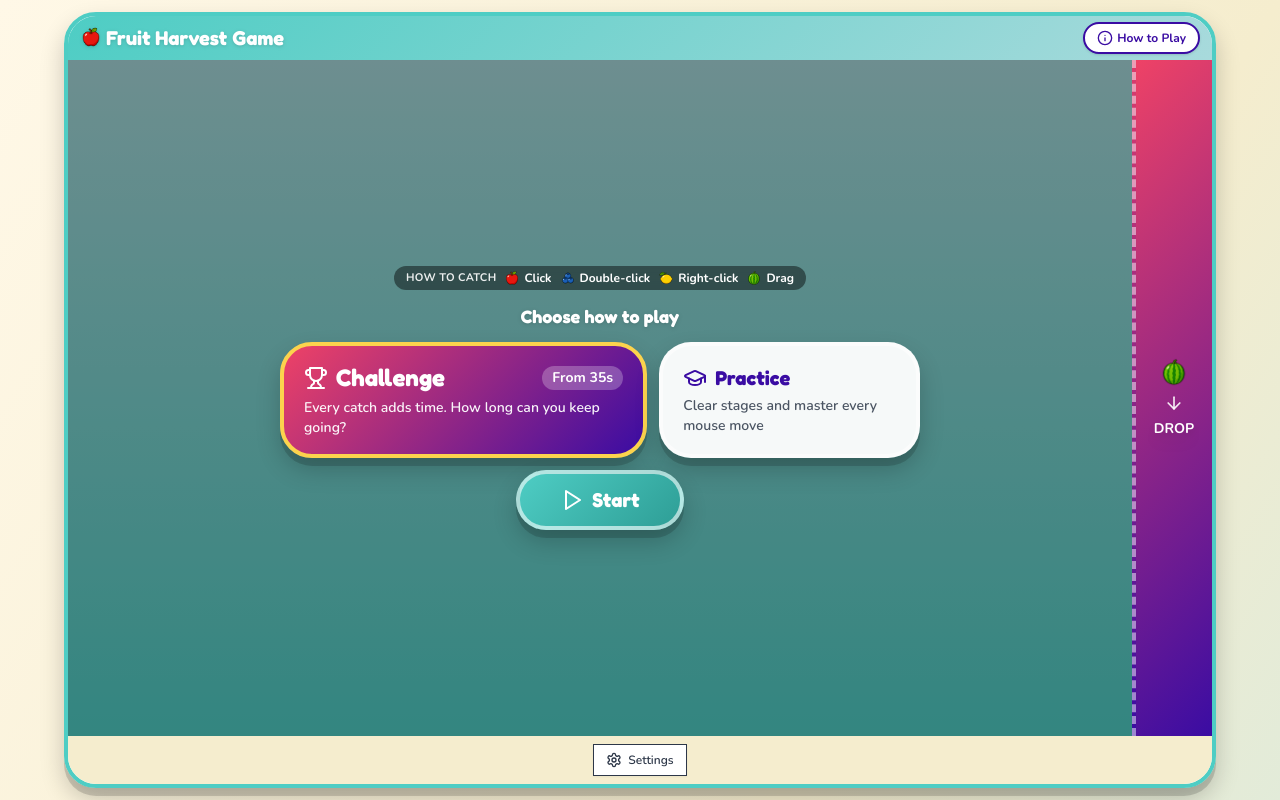
FruitHarvestGame Integration Tests › ゲームの開始と進行 › 一時停止ボタンでゲームが一時停止する
Click the button "Start" at (600, 500), box [516, 470, 684, 530]
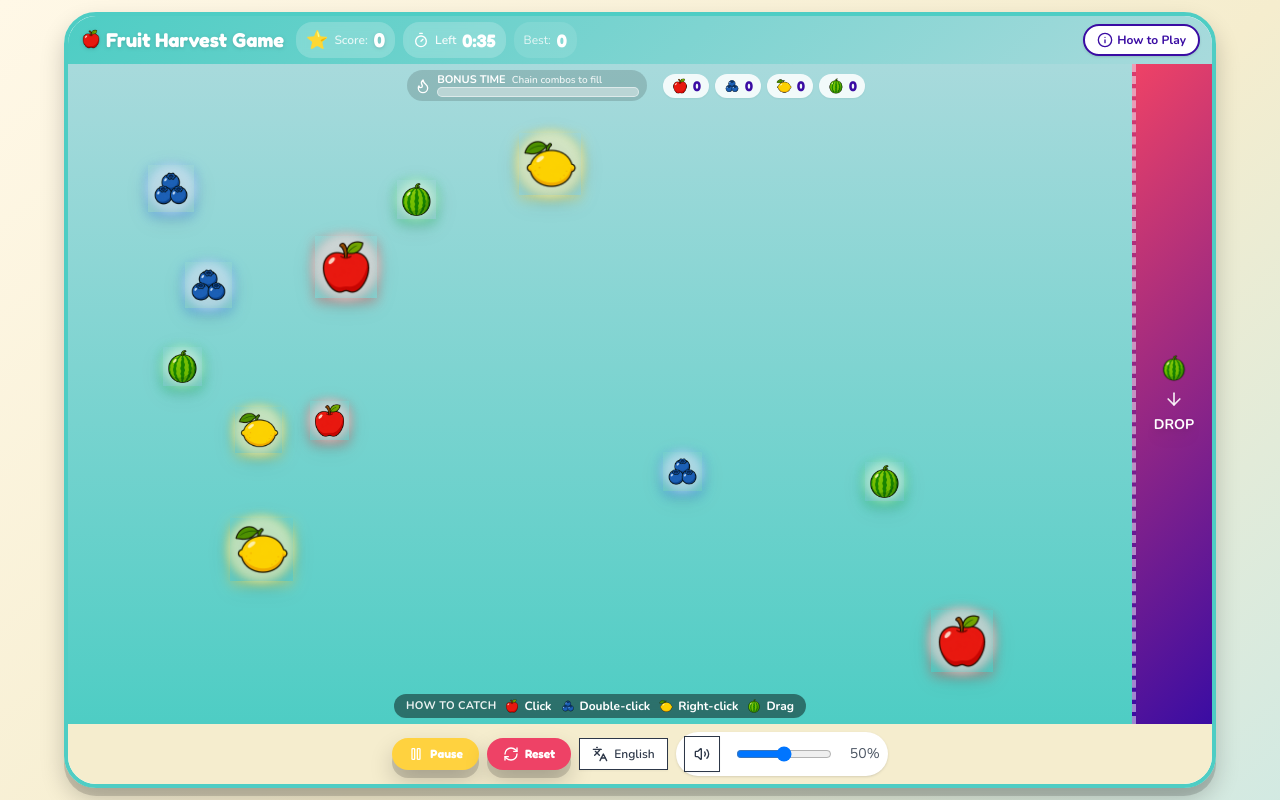
Click the button "Pause" at (436, 754), box [392, 738, 479, 770]
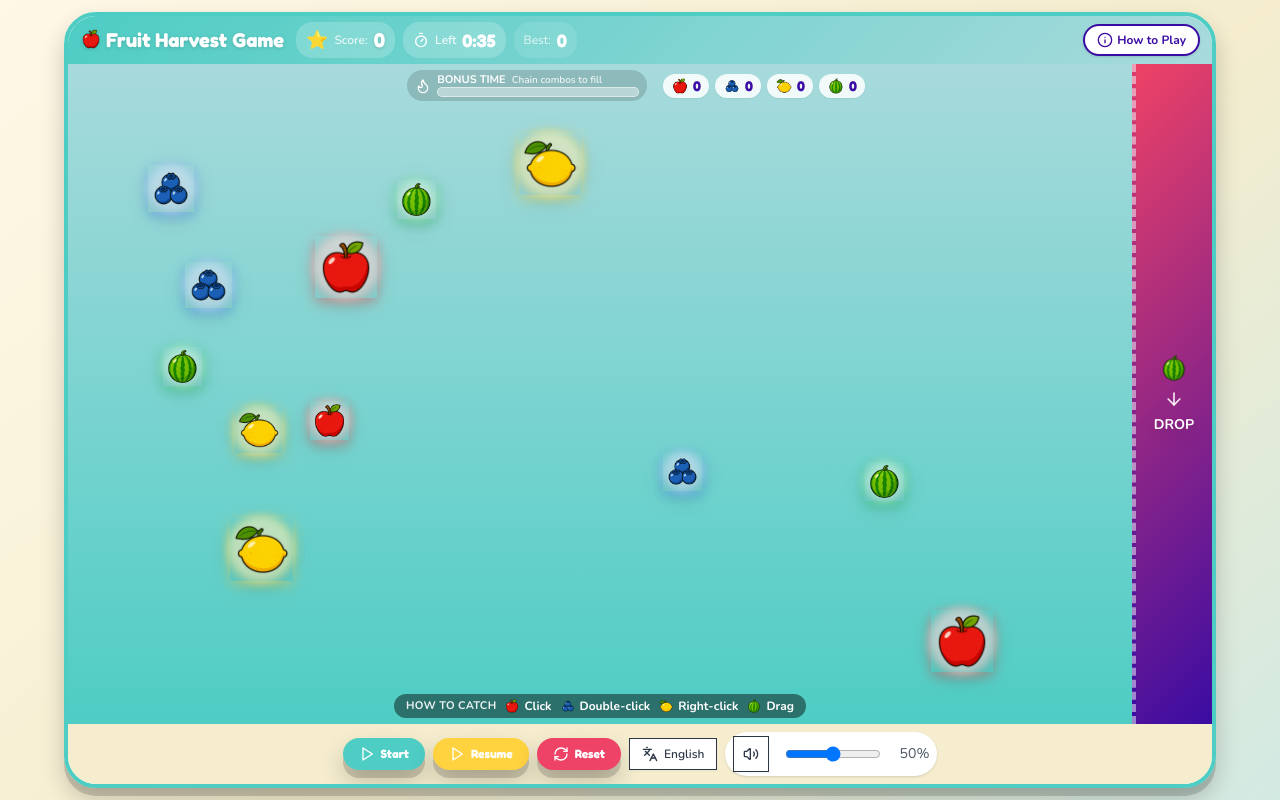
Expected: the button "Resume" is shown, [433, 738, 529, 770]
